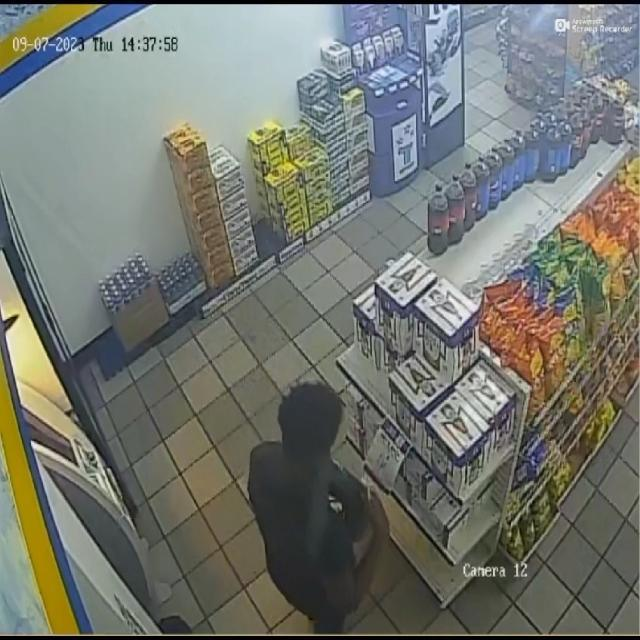Normal: (236, 330, 407, 640)
